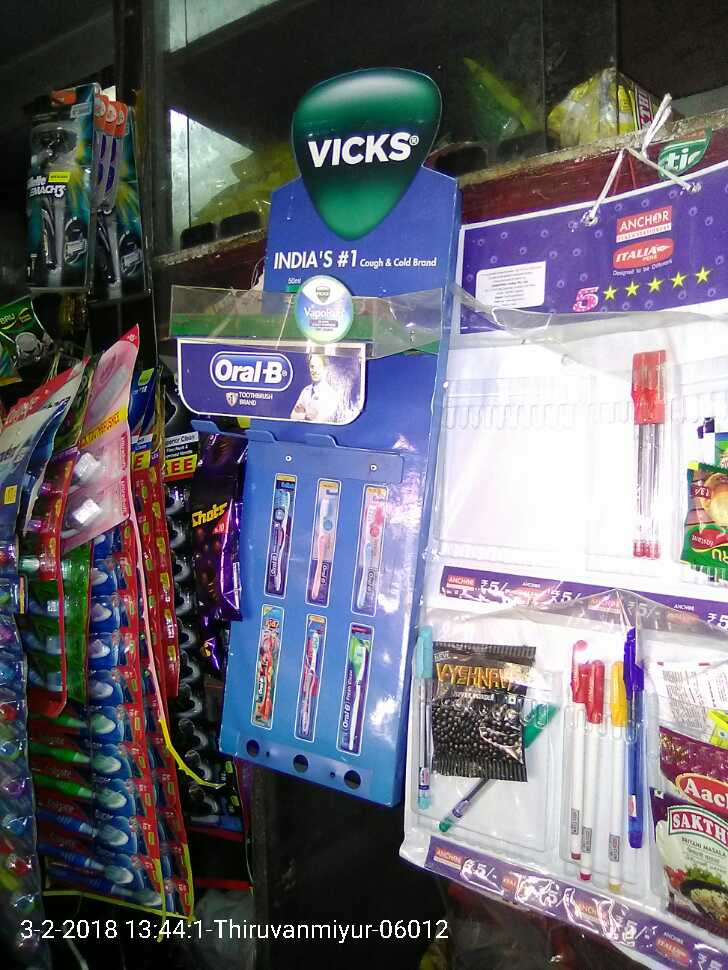gillette: (35, 105, 95, 282)
